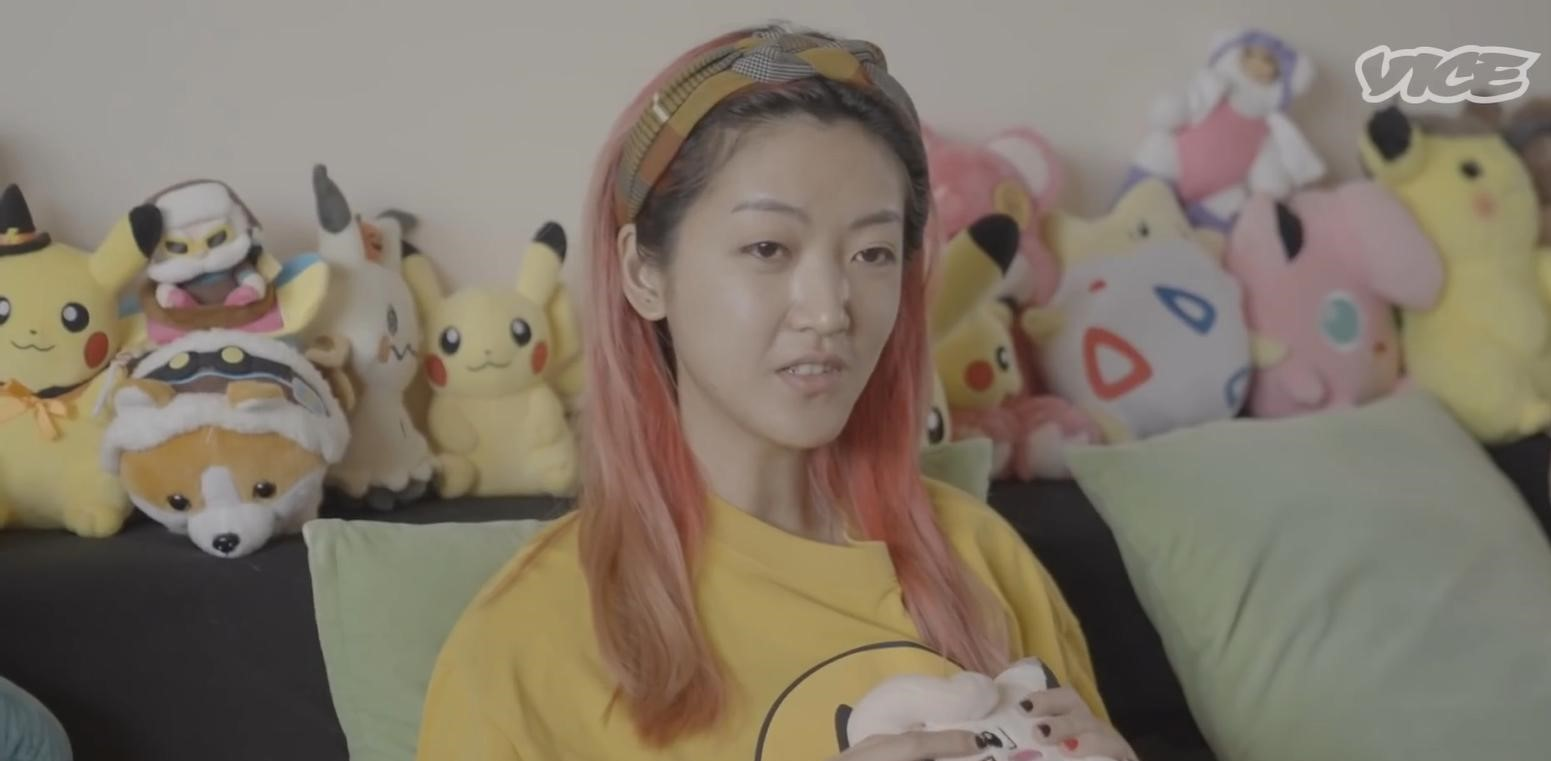without_mask: (719, 201, 893, 429)
